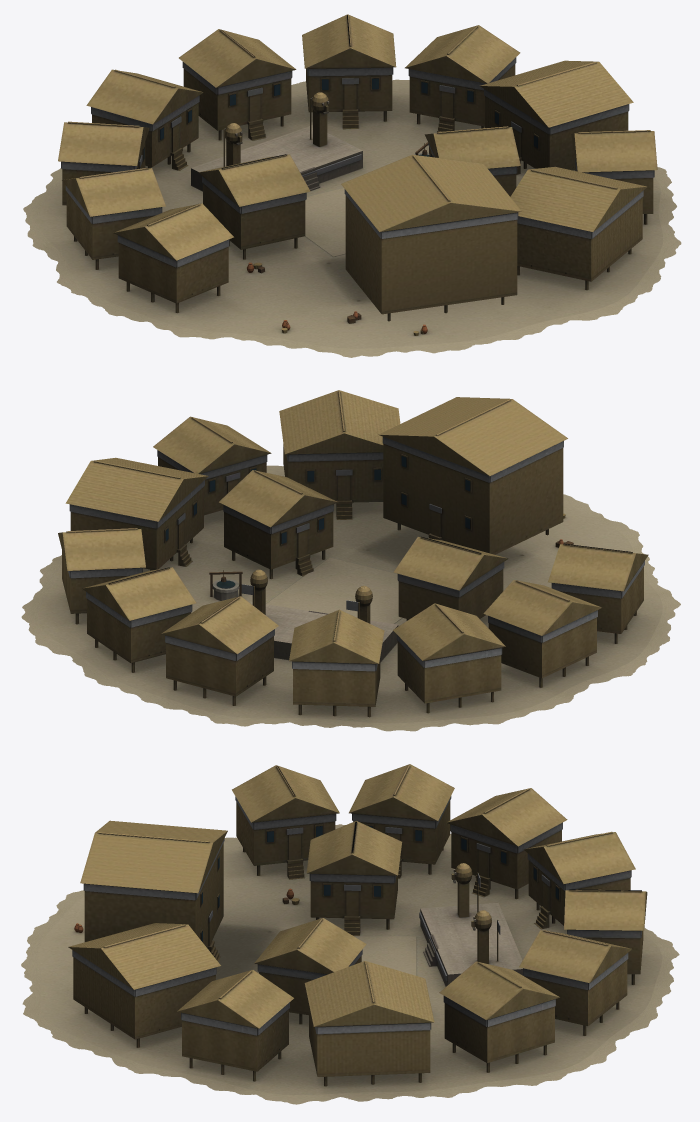
Rendered from bronze-town-medium-b-pacific.glb.
3 views of the same model, one above another, from view 1: azimuth 30°, elevation 25°; view 2: azimuth 150°, elevation 25°; view 3: azimuth 270°, elevation 25° (orthographic).
Parts seen in each view (by area): view 1: LOD0; view 2: LOD0; view 3: LOD0.
Boxes of the visible parts, left/top/right/bottom form: LOD0: left=23, top=14, right=681, bottom=357; LOD0: left=21, top=390, right=680, bottom=731; LOD0: left=21, top=764, right=679, bottom=1104.
Size of what is drawn, in the model's own units: 5.96 by 1.17 by 5.93.
3 materials, 3 textured.
